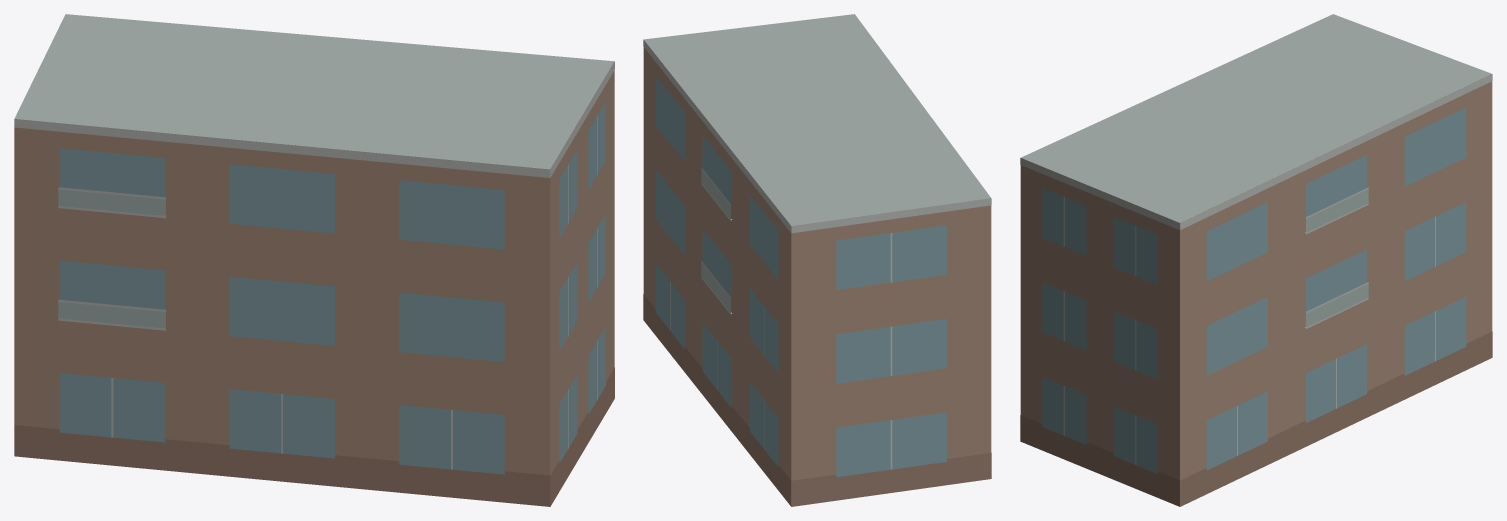
Rendered from survey-upis-32883683.glb.
3 renders of one model, left to right at view 1: azimuth 30°, elevation 25°; view 2: azimuth 150°, elevation 25°; view 3: azimuth 270°, elevation 25°, orthographic. The views are drawn at different scales.
Visible parts, largest first — view 1: survey-upis-32883683.tmp; view 2: survey-upis-32883683.tmp; view 3: survey-upis-32883683.tmp.
Boxes of the visible parts, x1,y1,x2,y2 form: survey-upis-32883683.tmp: (14,14,614,506); survey-upis-32883683.tmp: (643,14,991,506); survey-upis-32883683.tmp: (1020,14,1492,506).
Bounding box in the file's own units: 15.17 × 9.6 × 14.47.
